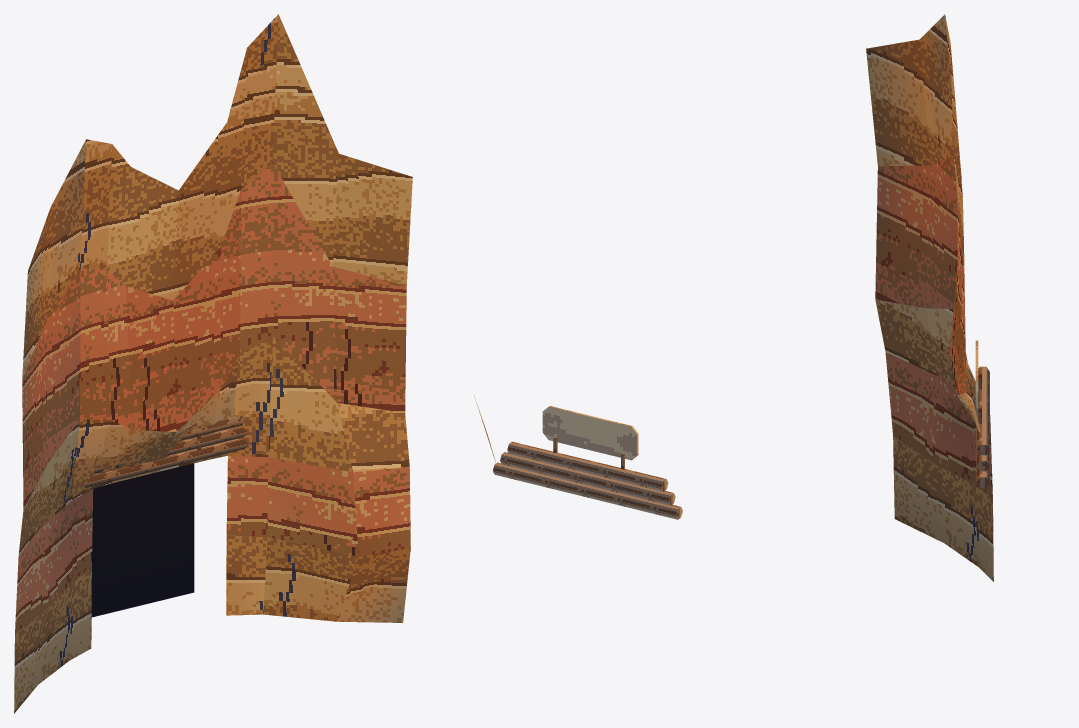
The model's file is wmine.portal__canyon.glb.
3 renders of one model, left to right at view 1: azimuth 30°, elevation 25°; view 2: azimuth 150°, elevation 25°; view 3: azimuth 270°, elevation 25°, orthographic. The views are drawn at different scales.
Visible parts, largest first — view 1: kit_shell_face, kit_card_depth, kit_lagging; view 2: kit_lagging, kit_trim; view 3: kit_shell_face, kit_lagging.
Boxes of the visible parts, left/top/right/bottom form: kit_shell_face: left=14, top=14, right=412, bottom=713; kit_card_depth: left=91, top=463, right=194, bottom=617; kit_lagging: left=84, top=416, right=249, bottom=487; kit_lagging: left=493, top=441, right=682, bottom=519; kit_trim: left=542, top=406, right=638, bottom=460; kit_shell_face: left=866, top=14, right=993, bottom=581; kit_lagging: left=976, top=366, right=989, bottom=487.
Bounding box in the file's own units: 8 × 12.2 × 3.45.
7 materials, 7 textured.
